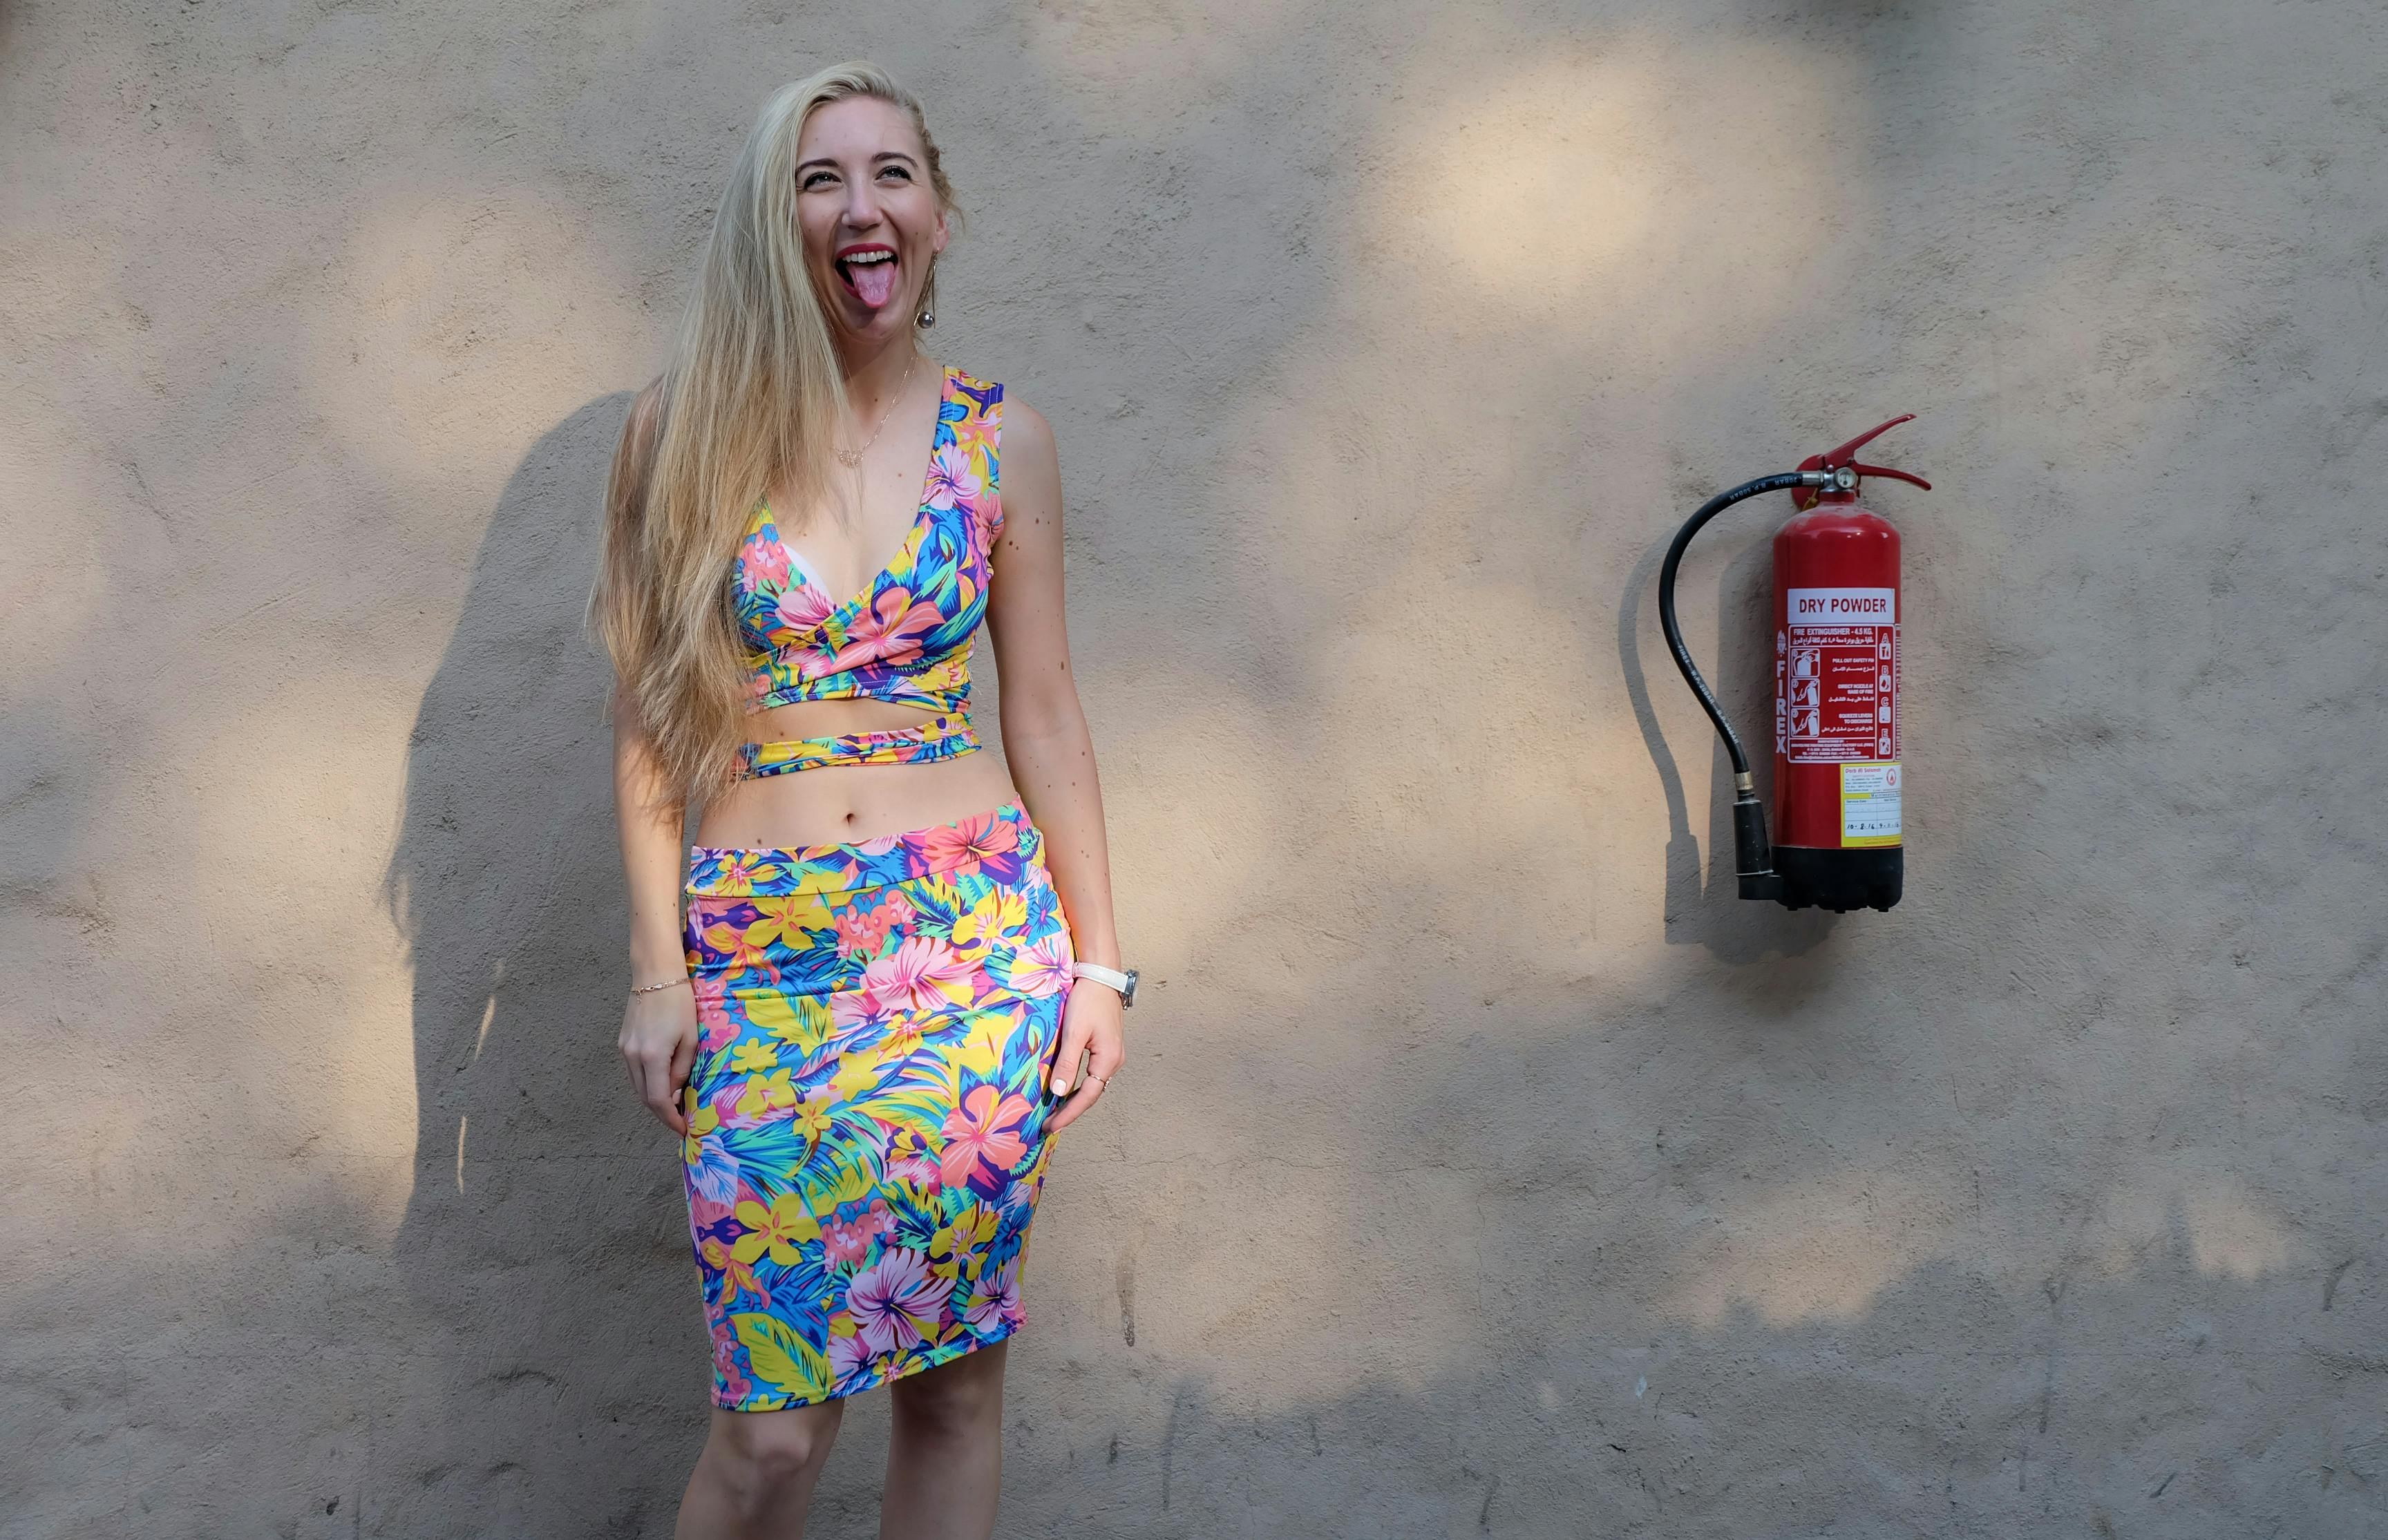extintor: (1636, 400, 1948, 924)
